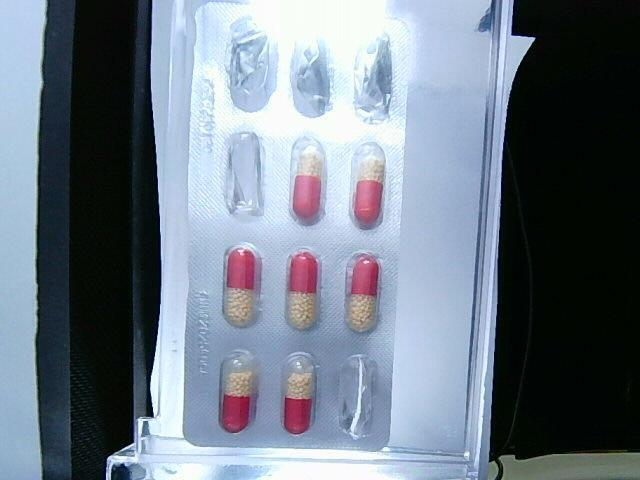Light Front: (183, 0, 413, 452)
No Pill Front: (225, 16, 278, 112), (290, 38, 333, 117), (354, 34, 392, 123), (339, 354, 376, 439), (226, 133, 262, 215)
Pill Front: (348, 135, 388, 233), (340, 244, 382, 334), (290, 138, 330, 226), (219, 349, 259, 433), (224, 244, 261, 328), (285, 249, 320, 329), (283, 353, 316, 434)
